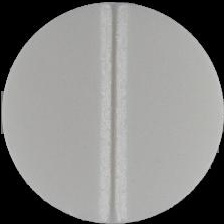55154-4946: (0, 0, 224, 224)
